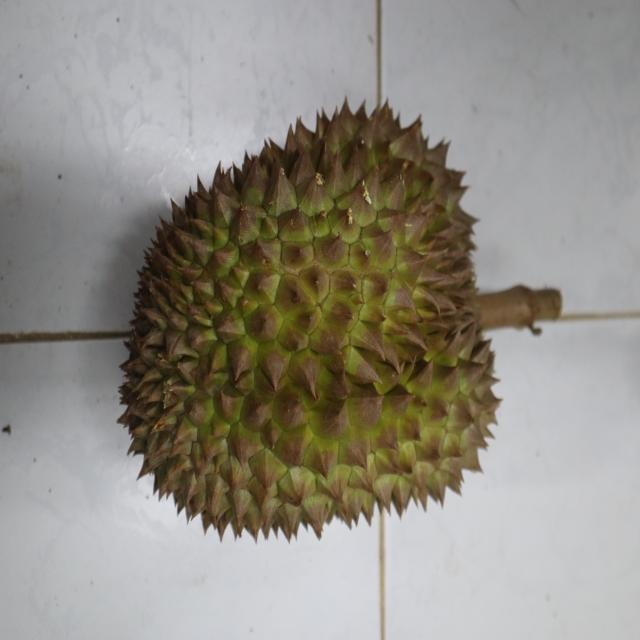mature: (114, 99, 506, 548)
